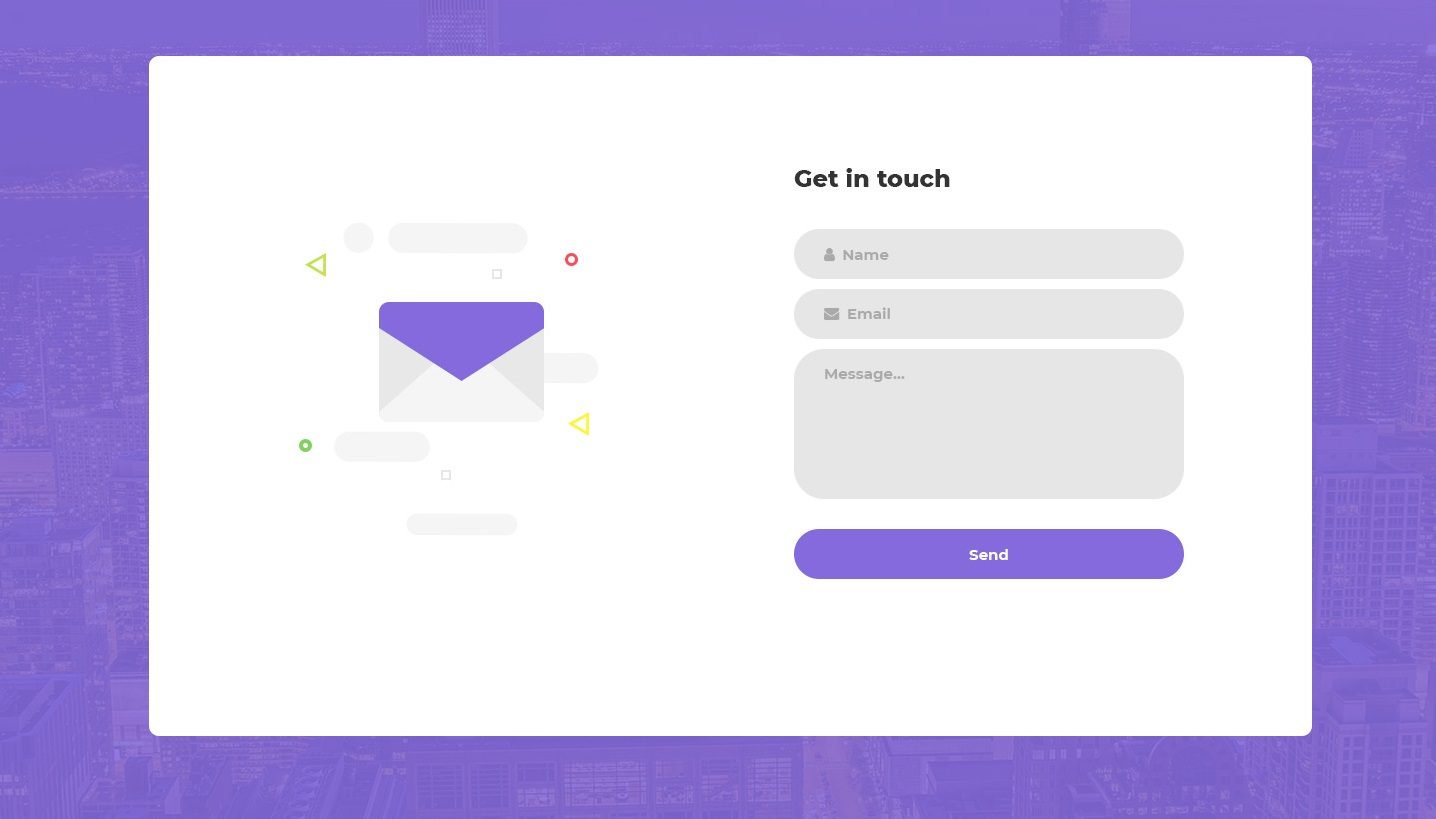button: (792, 527, 1188, 583)
field: (795, 346, 1182, 506), (792, 226, 1186, 280), (792, 287, 1187, 339)
